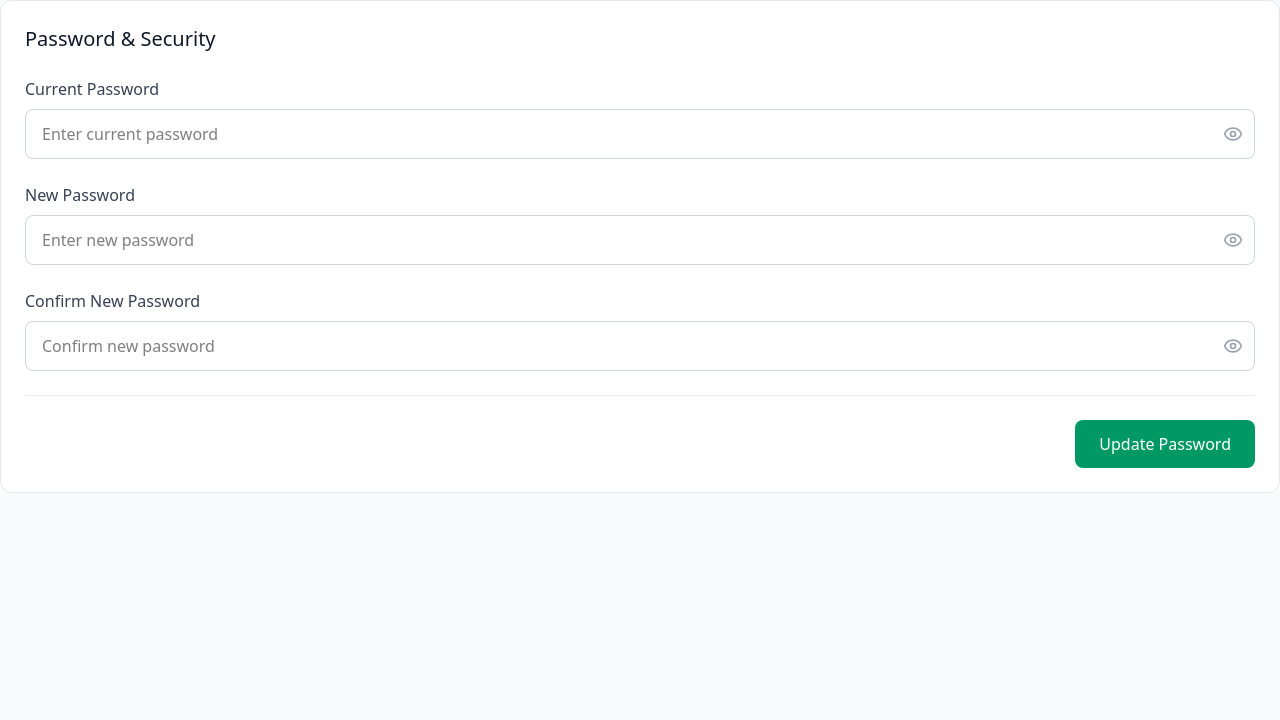
Test: PasswordChangeCard › shows error for short password
Type "OldPassword1!" into the password field with placeholder "Enter current password" at (640, 134), box [25,109,1255,159]
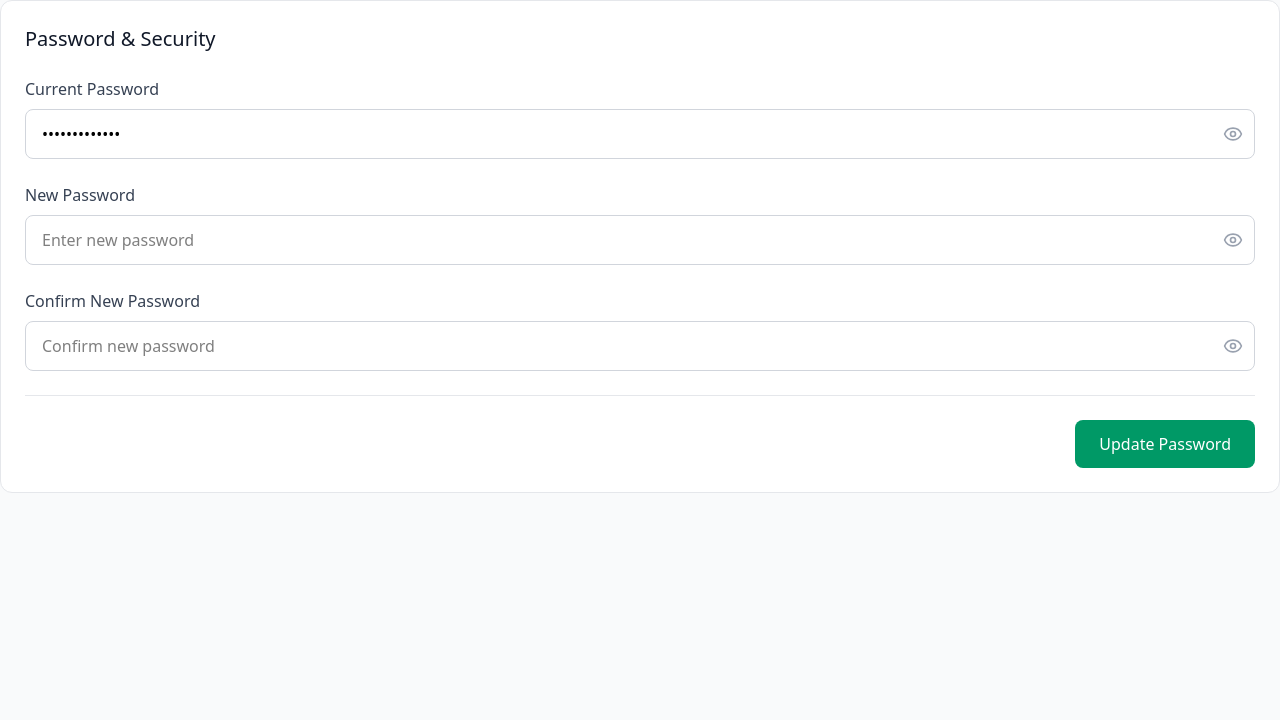
Type "Pwd1!" into the password field with placeholder "Enter new password" at (640, 240), box [25,215,1255,265]
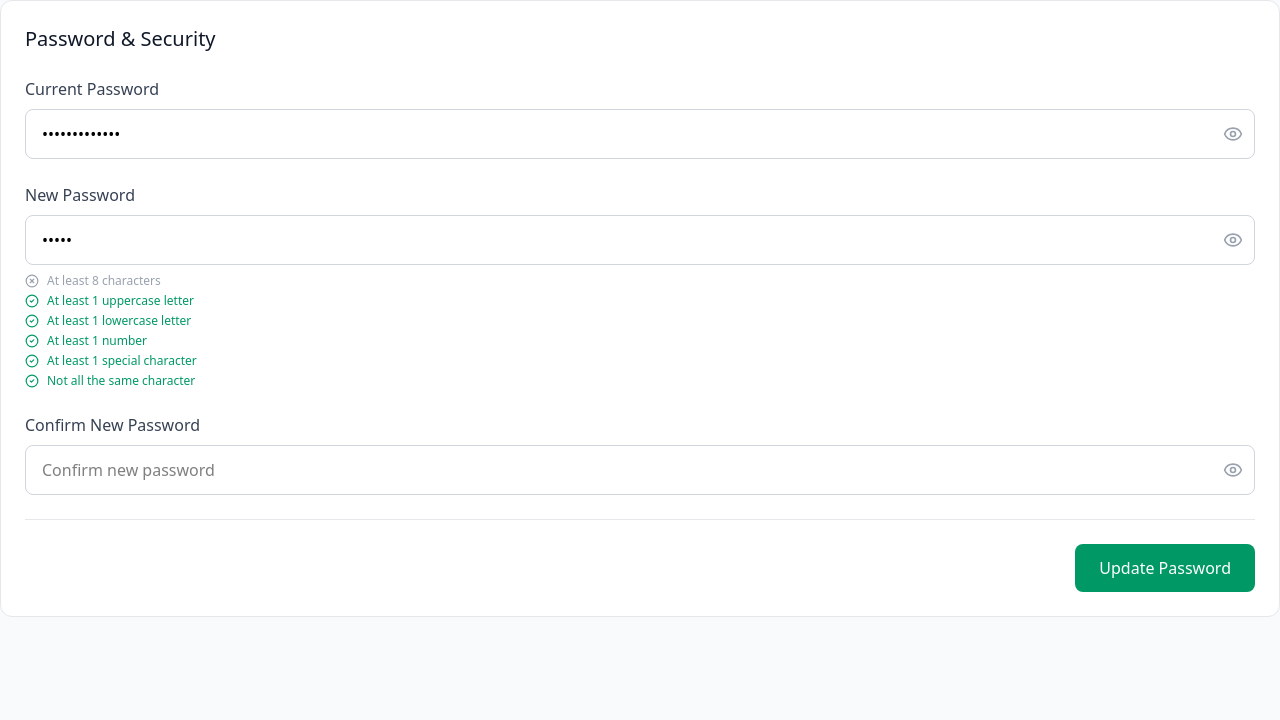
Type "Pwd1!" into the password field with placeholder "Confirm New Password" at (640, 470), box [25,445,1255,495]
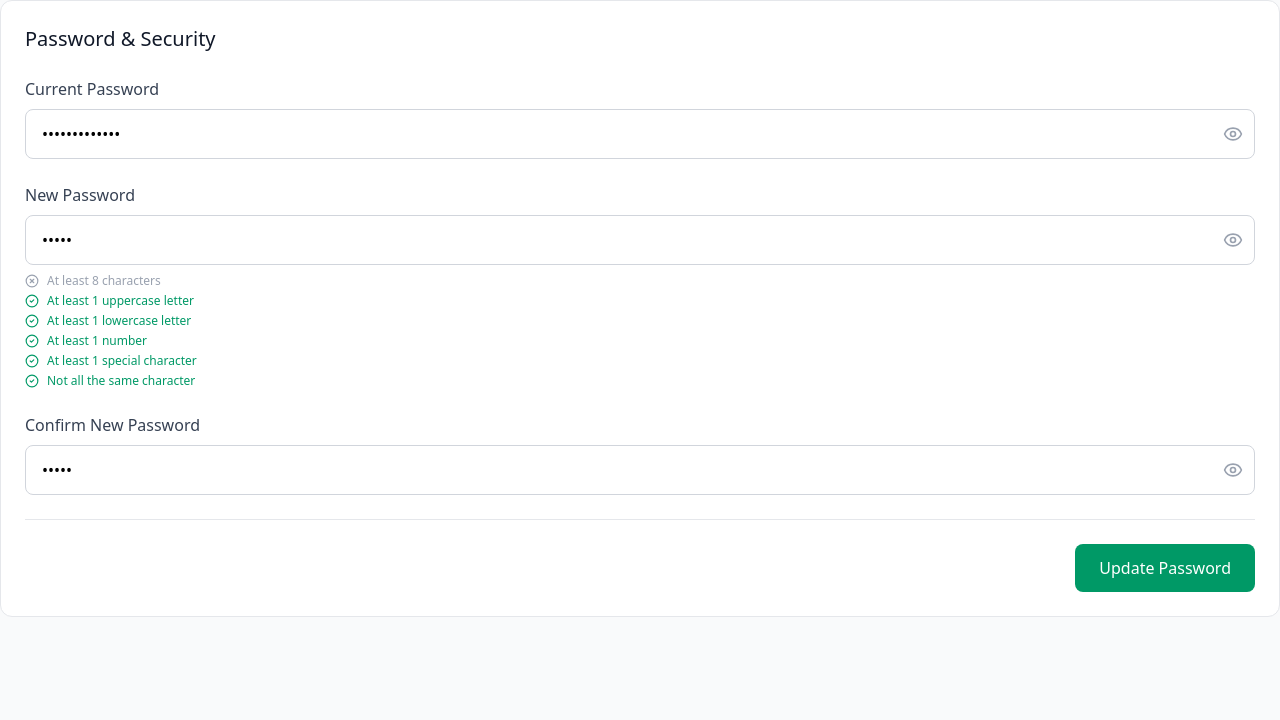
Click the button "Update Password" at (1165, 568), box [1075,544,1255,592]
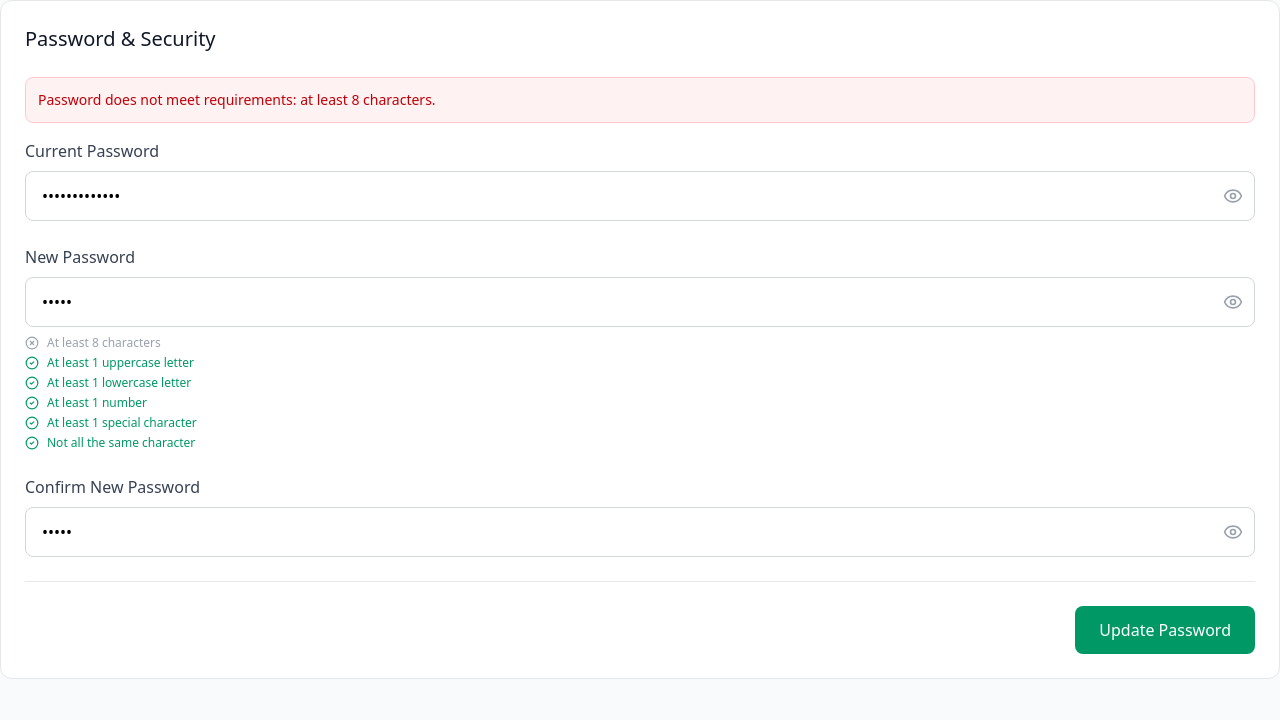
Expected: the text "Password does not meet requirements: at least 8 characters." is shown, [25,77,1255,123]
